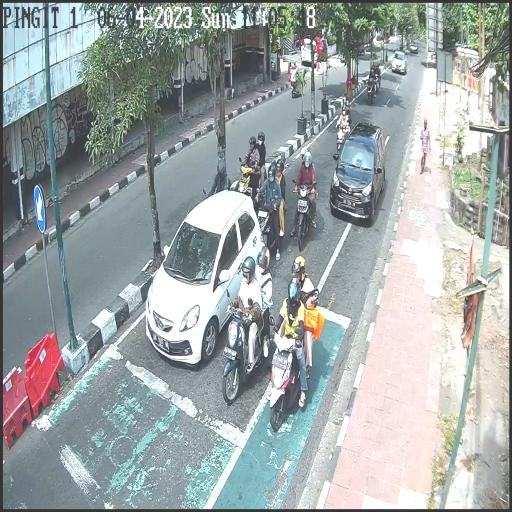mobil: (145, 186, 263, 367), (332, 121, 386, 226), (392, 50, 408, 75)
motor: (224, 288, 272, 400), (266, 313, 308, 433), (256, 188, 286, 254), (292, 180, 318, 252), (237, 156, 256, 198), (334, 120, 346, 152), (366, 79, 376, 106)
